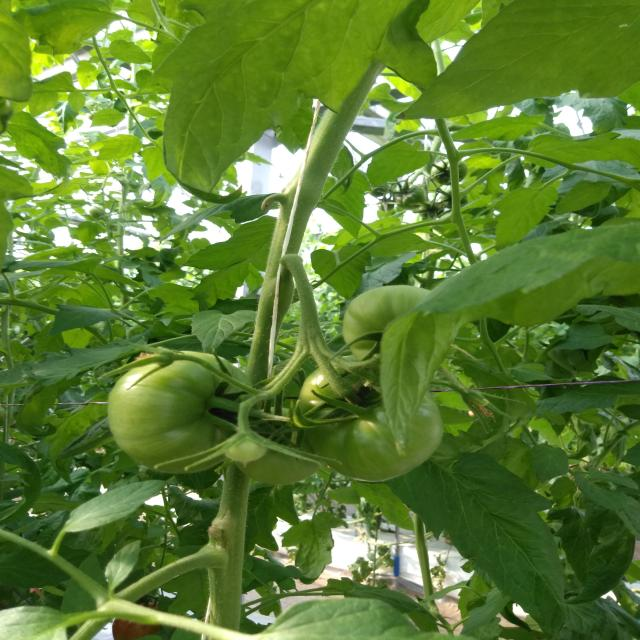yesil: (105, 306, 451, 486)
